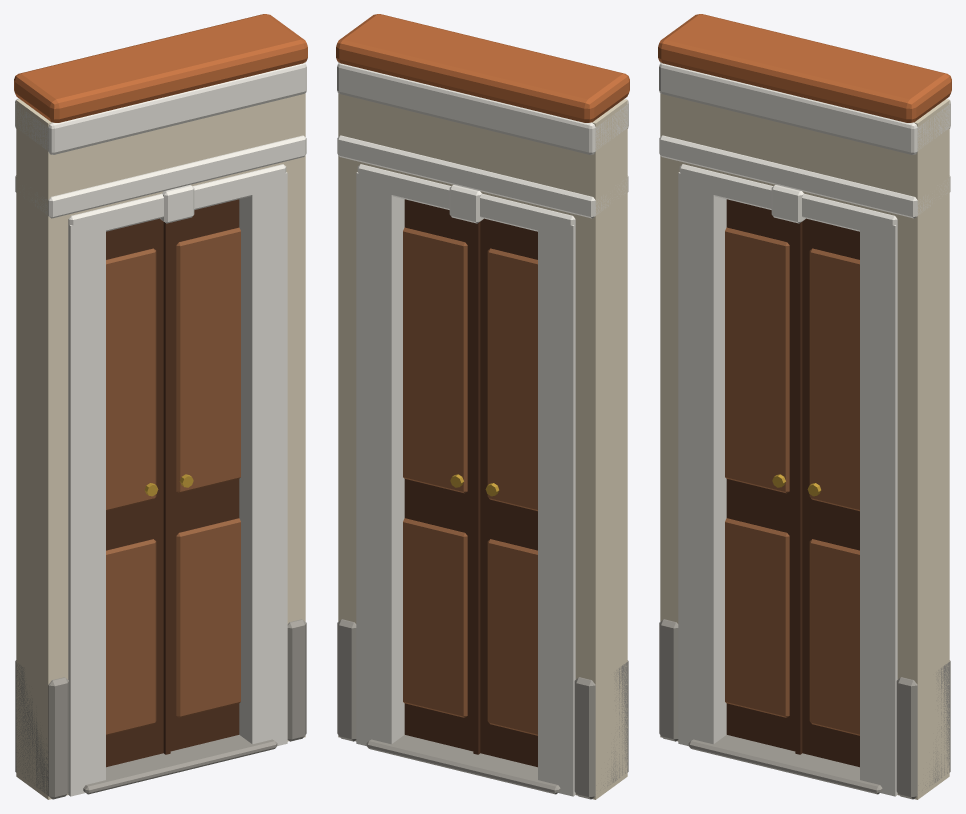
Rendered from parede_colonial_porta.glb.
3 renders of one model, left to right at view 1: azimuth 30°, elevation 25°; view 2: azimuth 150°, elevation 25°; view 3: azimuth 330°, elevation 25°, orthographic.
Parts seen in each view (by area): view 1: parede_colonial_porta; view 2: parede_colonial_porta; view 3: parede_colonial_porta.
Part boxes in pixels (<box>): parede_colonial_porta: <box>14,14,307,799</box>; parede_colonial_porta: <box>336,14,629,799</box>; parede_colonial_porta: <box>658,14,951,799</box>.
Bounding box in the file's own units: 1.02 × 2.65 × 0.3.
